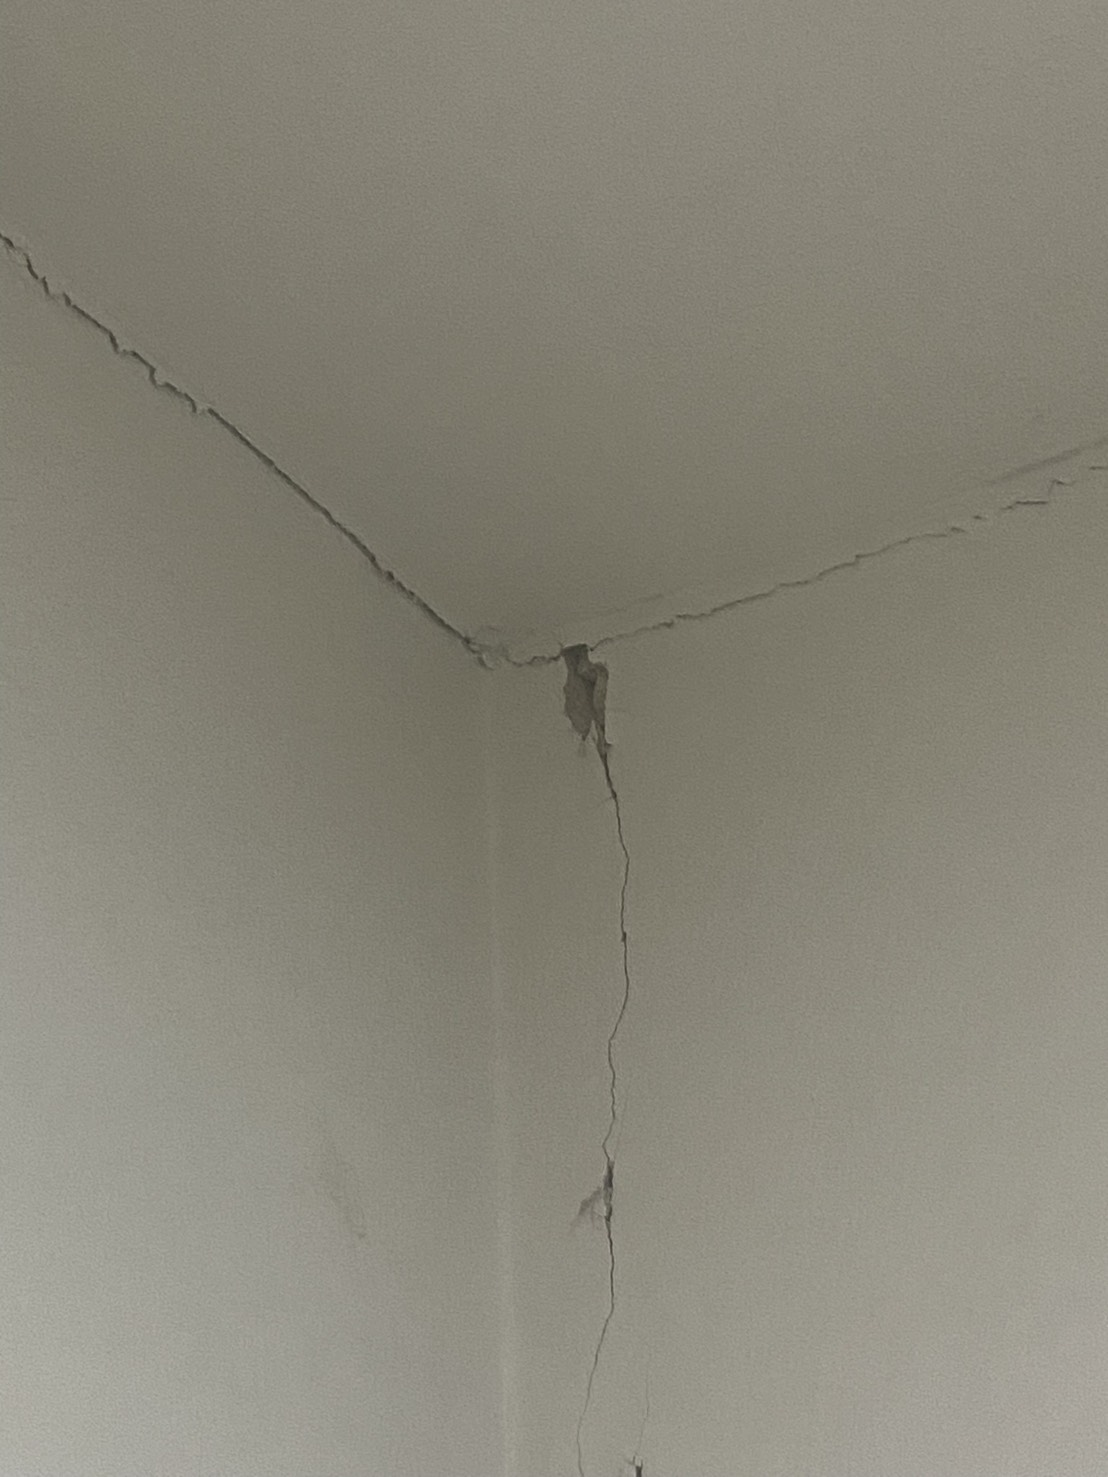Medium: (486, 616, 745, 1403)
